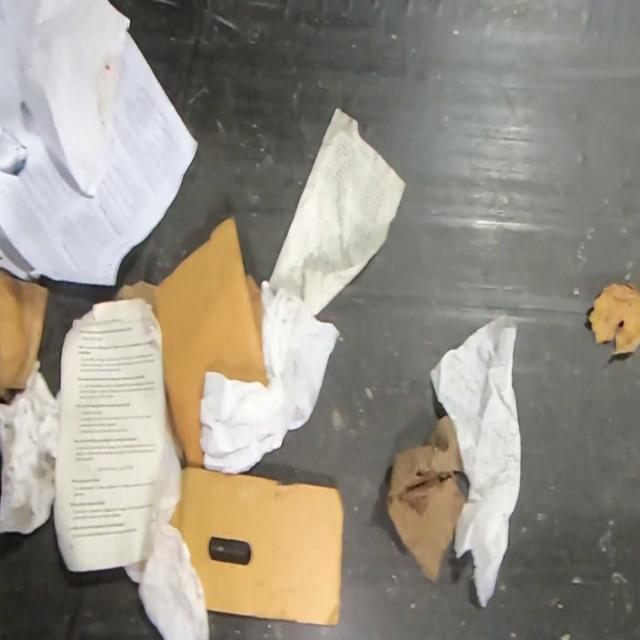cardboard: (112, 212, 269, 467), (167, 467, 344, 625)
